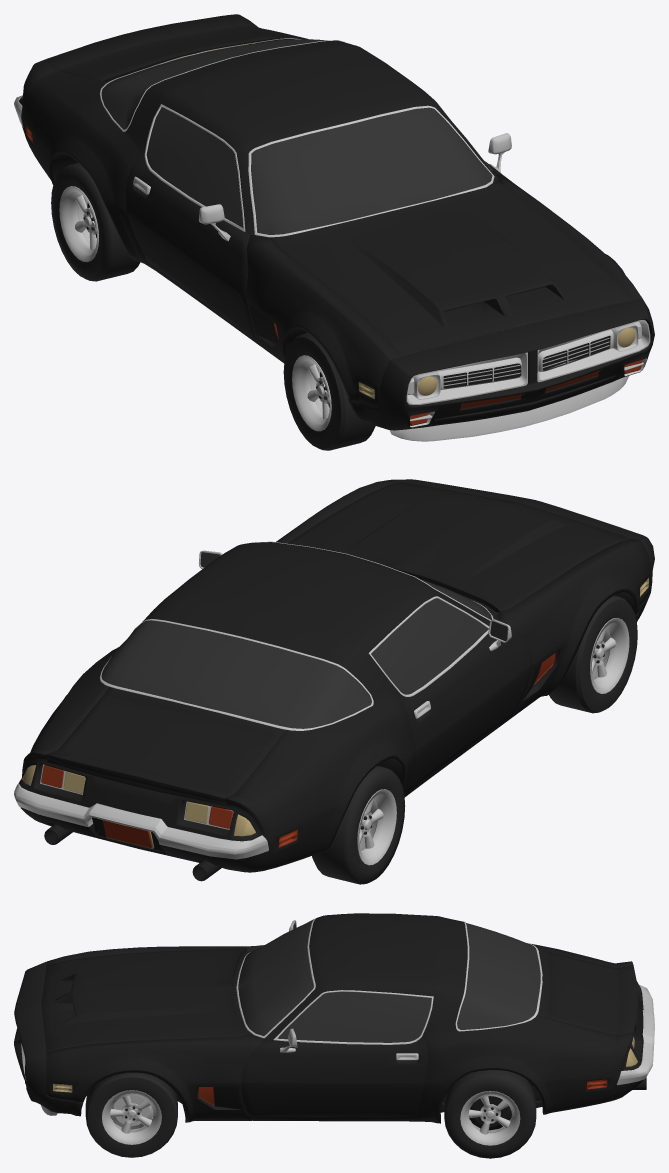
Rendered from M_Mustang.fbx.
The picture shows the model from 3 angles, top to bottom: view 1: azimuth 30°, elevation 25°; view 2: azimuth 150°, elevation 25°; view 3: azimuth 270°, elevation 25°; orthographic projection. The views are drawn at different scales.
Parts seen in each view (by area): view 1: Car-2, Car-2.003, Car-2.002; view 2: Car-2, Car-2.002, Car-2.003; view 3: Car-2, Car-2.001, Car-2.004.
Boxes of the visible parts, x1,y1,x2,y2 form: Car-2: (14, 14, 654, 441); Car-2.003: (283, 333, 375, 450); Car-2.002: (51, 162, 140, 281); Car-2: (14, 479, 654, 881); Car-2.002: (312, 765, 405, 884); Car-2.003: (549, 595, 637, 713); Car-2: (14, 913, 654, 1129); Car-2.001: (444, 1070, 536, 1158); Car-2.004: (85, 1072, 177, 1157).
Bounding box in the file's own units: 2.1 × 1.36 × 4.87.
